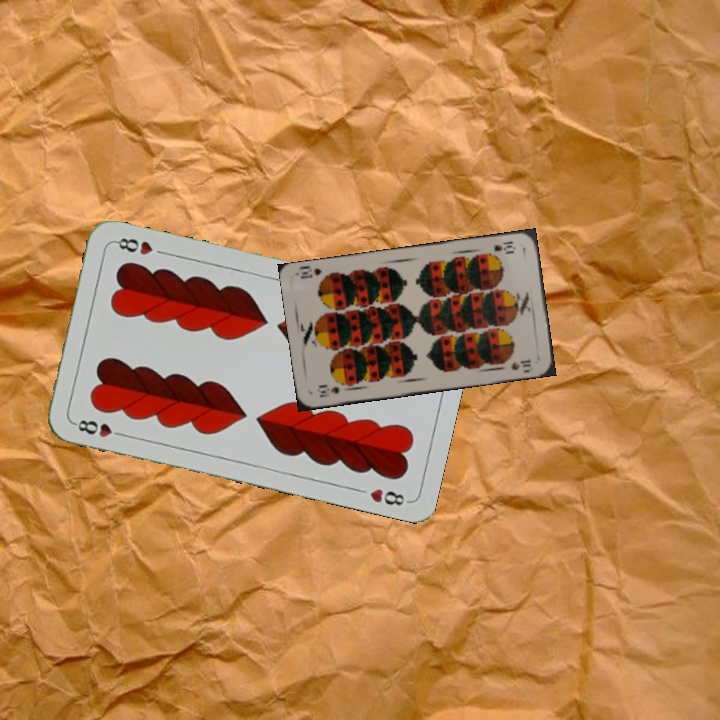H8: (69, 415, 128, 440)
S10: (313, 382, 342, 400), (490, 237, 518, 255)
